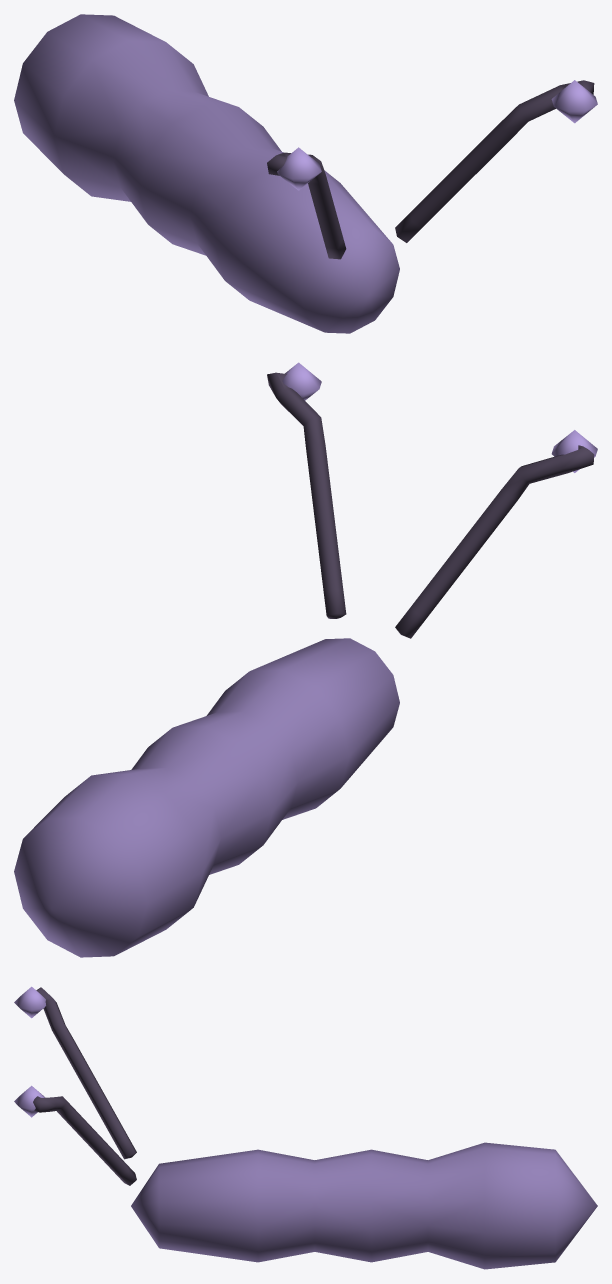
File: SH_Fly_Body_Lav.fbx
The picture shows the model from 3 angles, top to bottom: view 1: azimuth 30°, elevation 25°; view 2: azimuth 150°, elevation 25°; view 3: azimuth 270°, elevation 25°; orthographic projection. The views are drawn at different scales.
Visible parts, largest first — view 1: SH_Fly_Body_Lav; view 2: SH_Fly_Body_Lav; view 3: SH_Fly_Body_Lav.
Boxes of the visible parts, left/top/right/bottom form: SH_Fly_Body_Lav: left=14, top=14, right=597, bottom=333; SH_Fly_Body_Lav: left=14, top=362, right=597, bottom=957; SH_Fly_Body_Lav: left=14, top=986, right=597, bottom=1269.
Size of the model in its own units: 0.0393 by 0.0355 by 0.0825.
